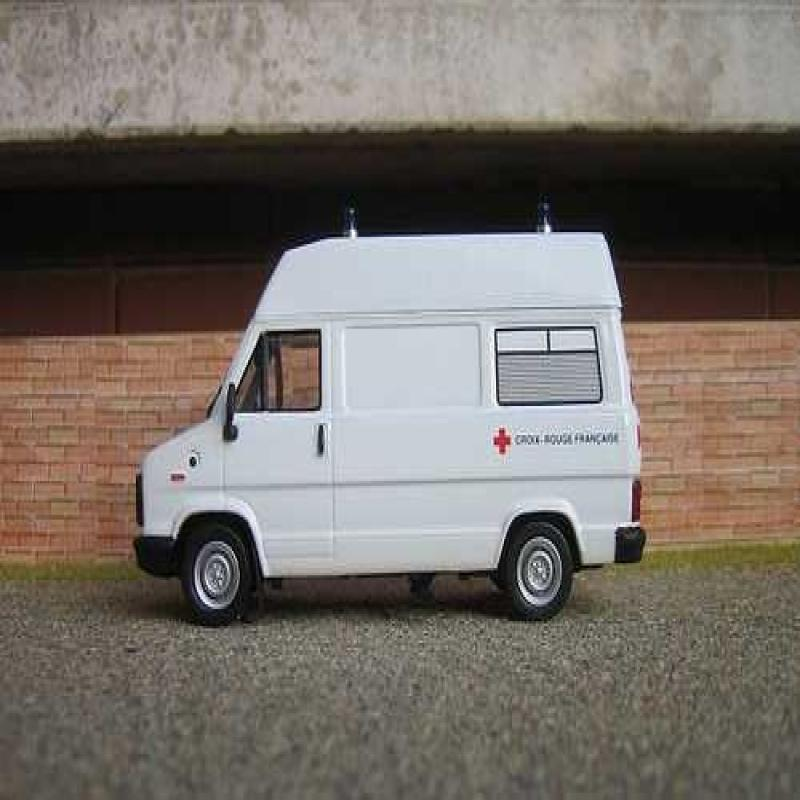AmbulanceSiren: (332, 197, 362, 245), (526, 199, 556, 240)
